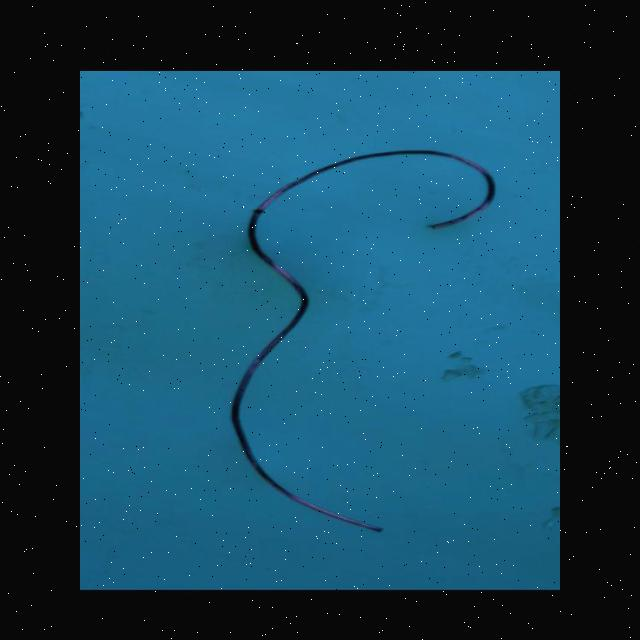Fibre: (230, 150, 500, 532)
